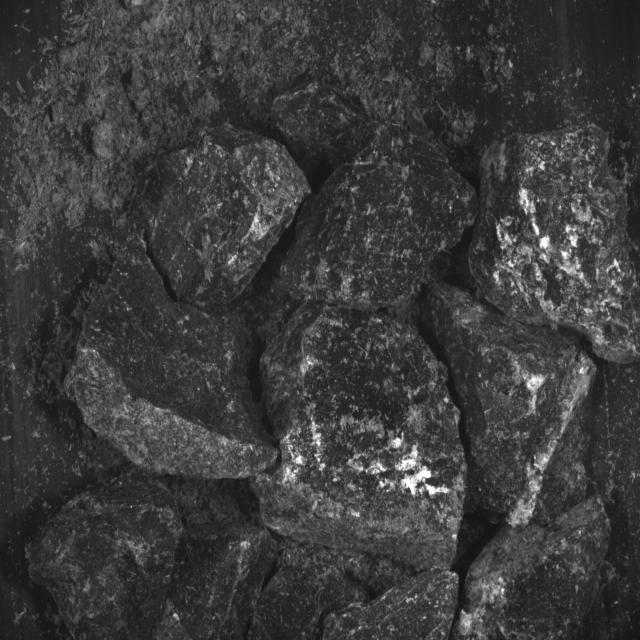Stones: (255, 305, 467, 571), (66, 237, 279, 479), (424, 284, 596, 526), (470, 126, 640, 365), (281, 126, 479, 309), (134, 124, 311, 309), (27, 474, 184, 640), (455, 498, 611, 640), (156, 526, 276, 640), (324, 571, 460, 640), (250, 567, 369, 640), (250, 569, 321, 640)
